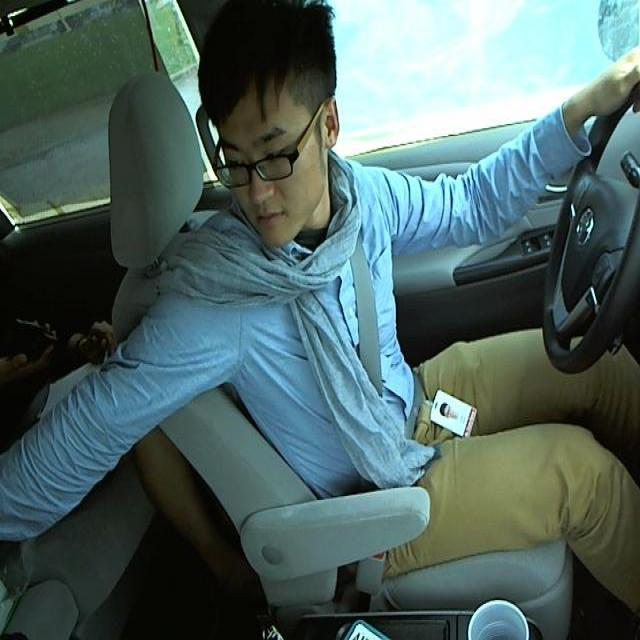seatbelt: (336, 250, 400, 427)
